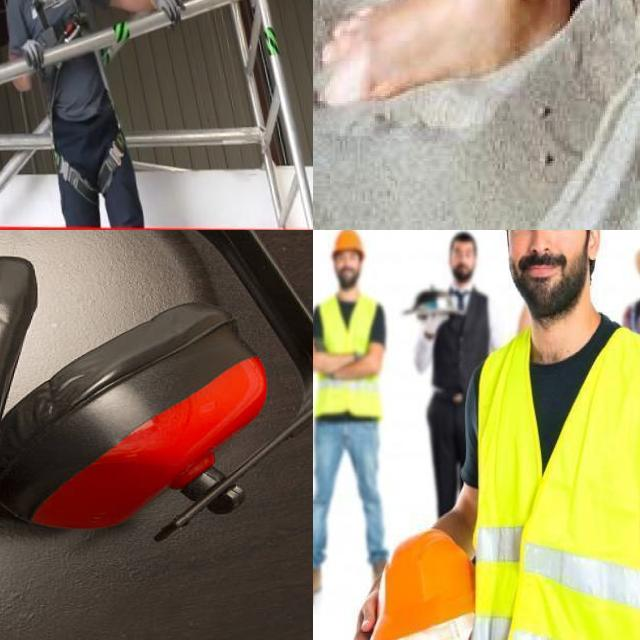Barefoots: (313, 0, 598, 147)
Ear-protection: (0, 230, 313, 557)
Harness: (32, 0, 89, 48)
No_Glasses: (505, 230, 578, 239)
face_nomask: (497, 230, 582, 302), (331, 251, 363, 282), (449, 250, 476, 283)
head_helmet: (351, 519, 484, 640), (327, 230, 365, 257)
head_nohelmet: (447, 230, 482, 252)
person: (431, 230, 640, 640), (404, 230, 495, 535), (313, 230, 389, 515)
vest: (463, 319, 640, 640), (313, 289, 393, 423)
